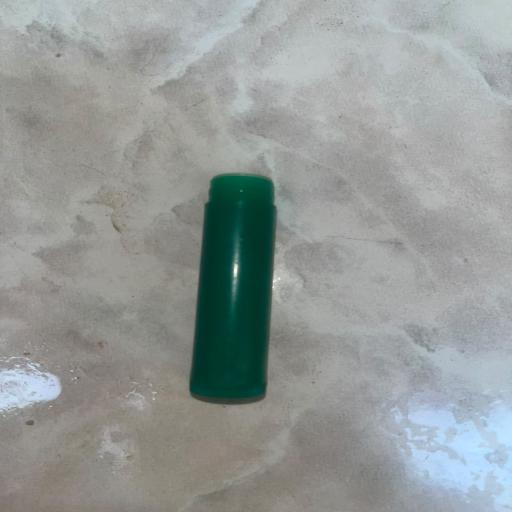HDPE: (115, 108, 426, 475)
